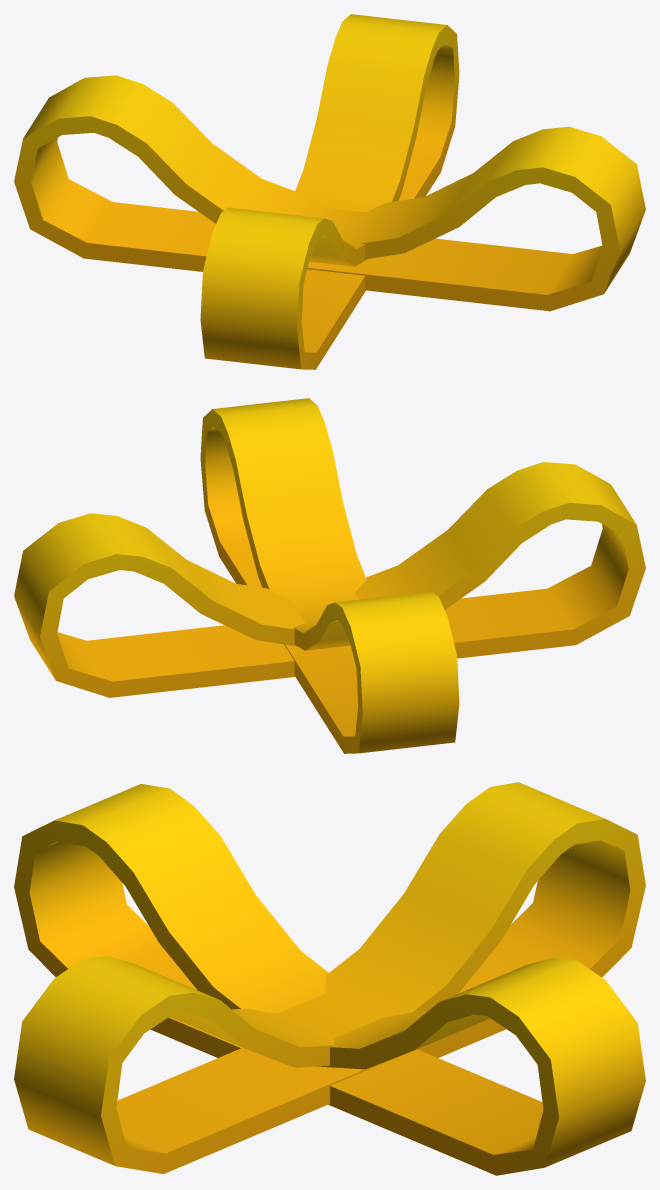
File: bow_005.fbx
3 views of the same model, one above another, from view 1: azimuth 30°, elevation 25°; view 2: azimuth 150°, elevation 25°; view 3: azimuth 270°, elevation 25° (orthographic). The views are drawn at different scales.
Visible parts, largest first — view 1: bow_005; view 2: bow_005; view 3: bow_005.
Part boxes in pixels (box(x1,y1,x2,y2)): bow_005: box(14, 14, 645, 369); bow_005: box(14, 398, 645, 753); bow_005: box(14, 782, 645, 1175).
Size of the model in its own units: 167 by 167 by 51.72.
